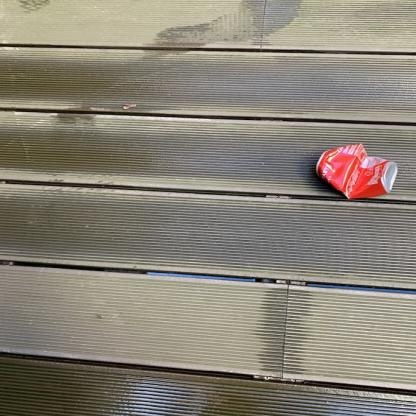trash: (316, 144, 397, 198)
